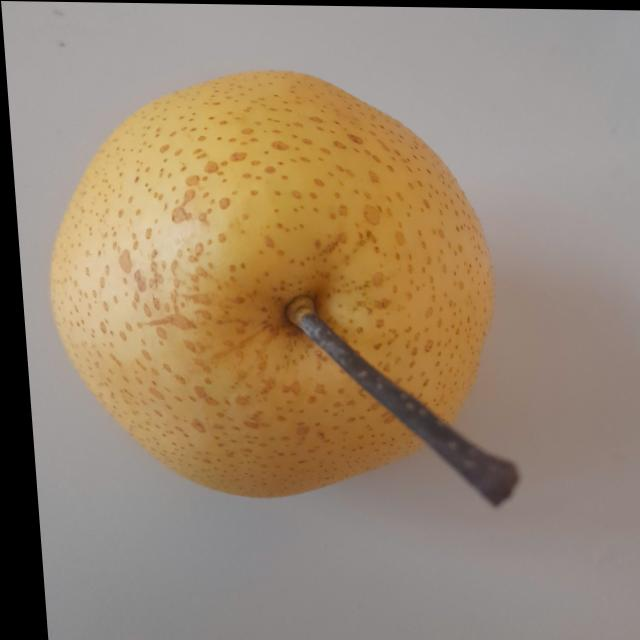Le: (30, 64, 545, 537)
